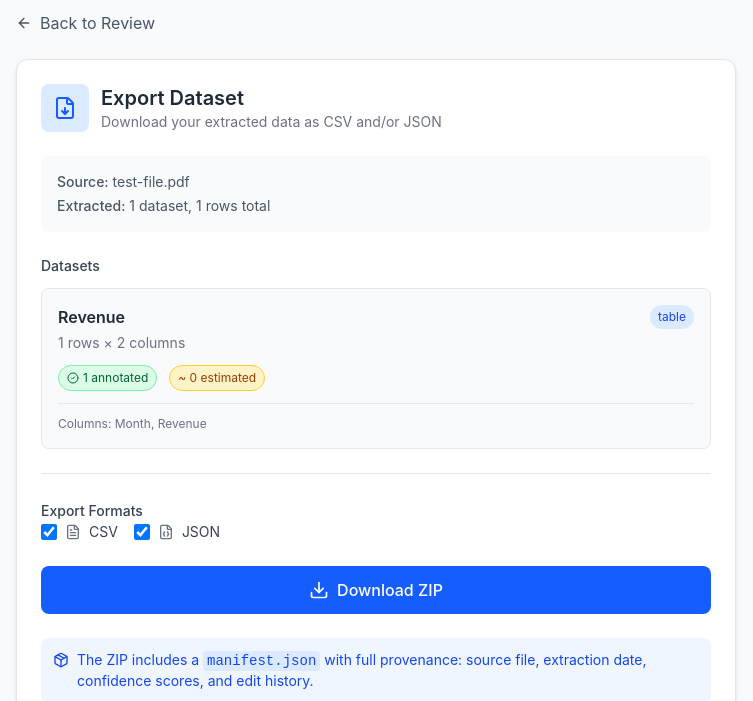
it: Additional page tests › ExportPage shows success message after export
Click the button "Download ZIP": (376, 590) left=41, top=566, right=711, bottom=614
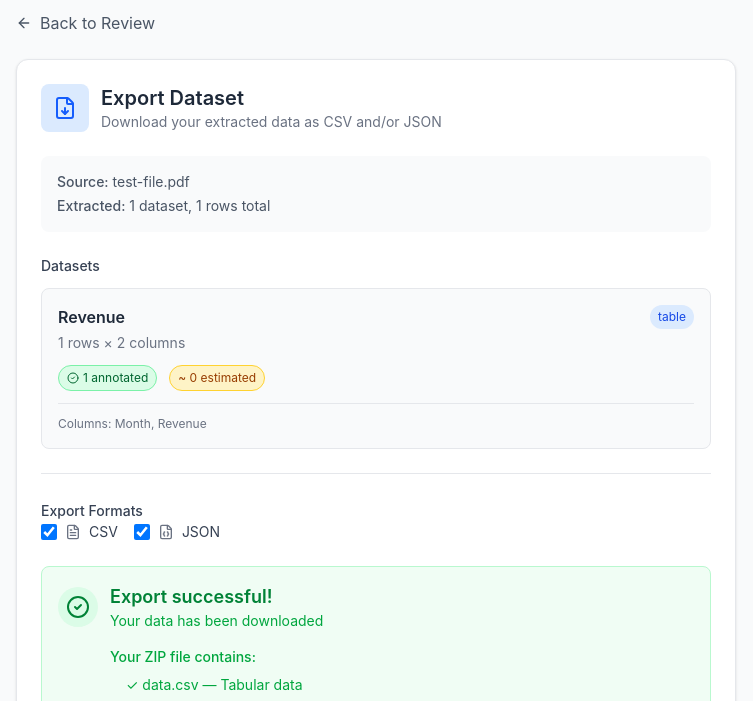
Check: the text "Export successful!" is shown, box left=110, top=586, right=272, bottom=607
